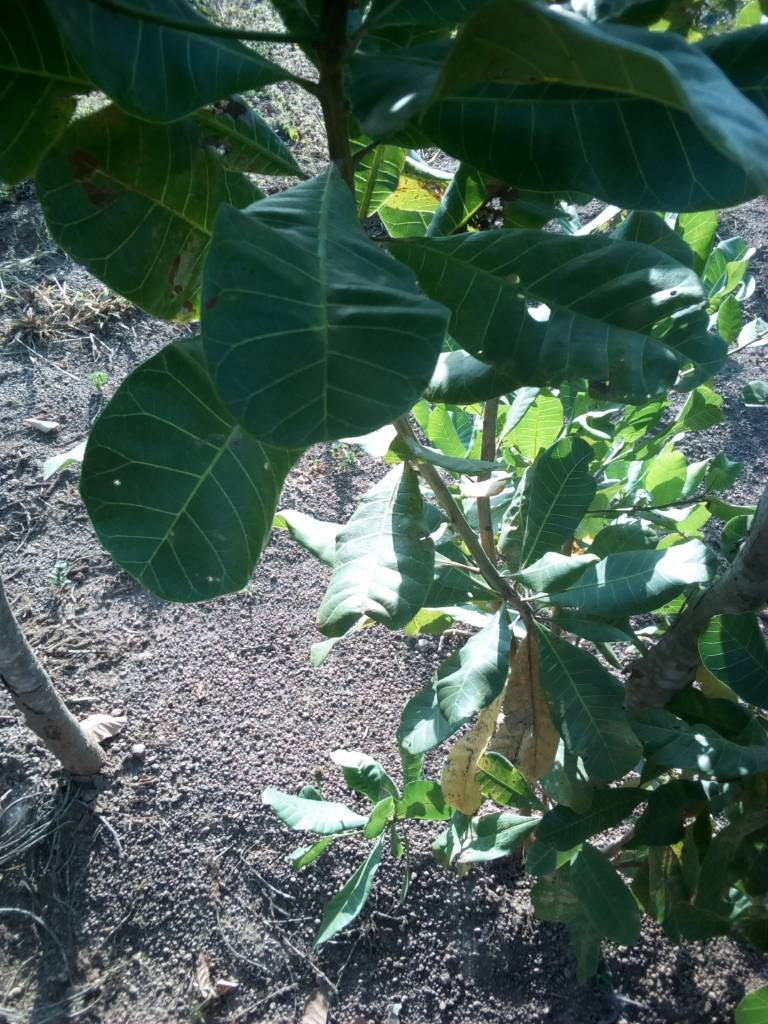Helopeltis anacardii: (210, 166, 440, 449), (458, 230, 725, 403)
